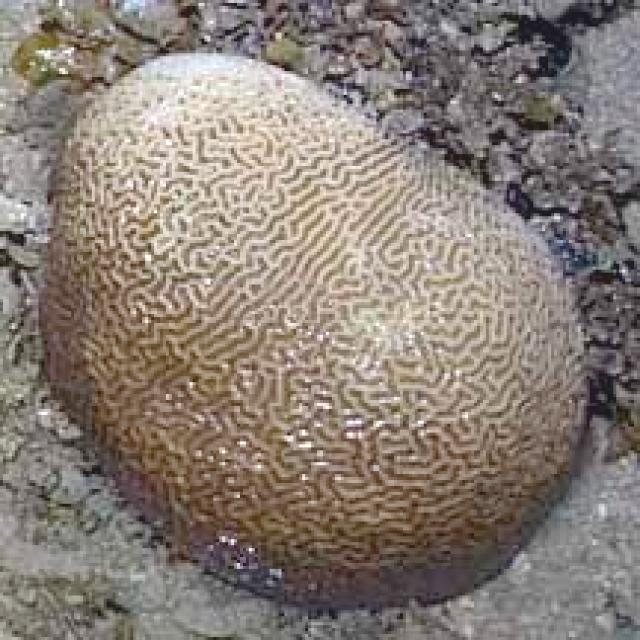Coral: (37, 54, 590, 617)
